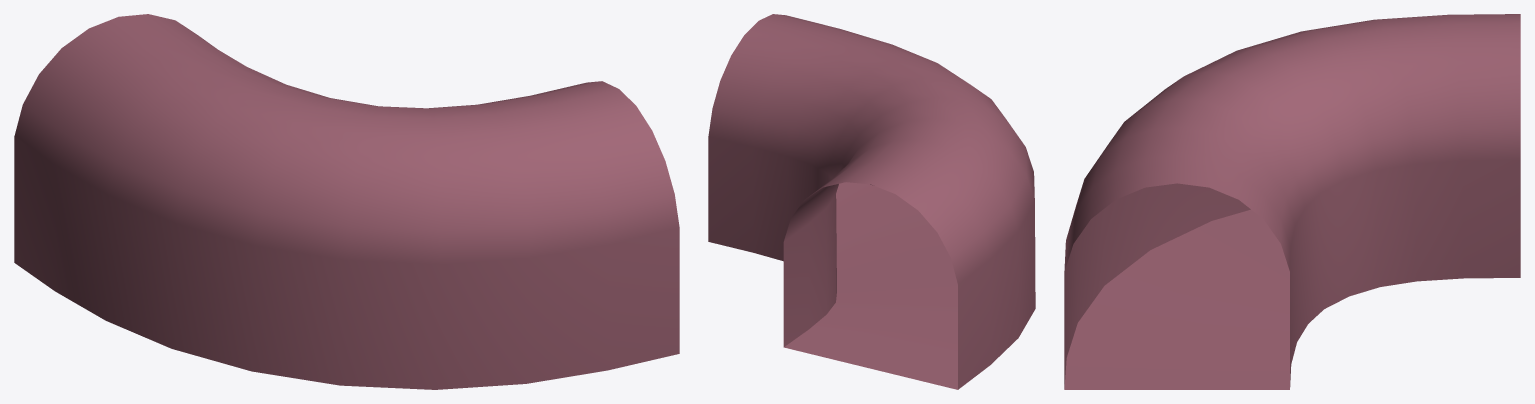
Rendered from mesh_TileTunelCurvaL.fbx.
The picture shows the model from 3 angles, left to right: view 1: azimuth 30°, elevation 25°; view 2: azimuth 150°, elevation 25°; view 3: azimuth 270°, elevation 25°; orthographic projection. The views are drawn at different scales.
Visible parts, largest first — view 1: mesh_TileTunelCurvaL; view 2: mesh_TileTunelCurvaL; view 3: mesh_TileTunelCurvaL.
Boxes of the visible parts, x1,y1,x2,y2 form: mesh_TileTunelCurvaL: (14, 14, 679, 389); mesh_TileTunelCurvaL: (708, 14, 1035, 389); mesh_TileTunelCurvaL: (1064, 14, 1520, 389).
Bounding box in the file's own units: 3166 × 1697 × 3166.
